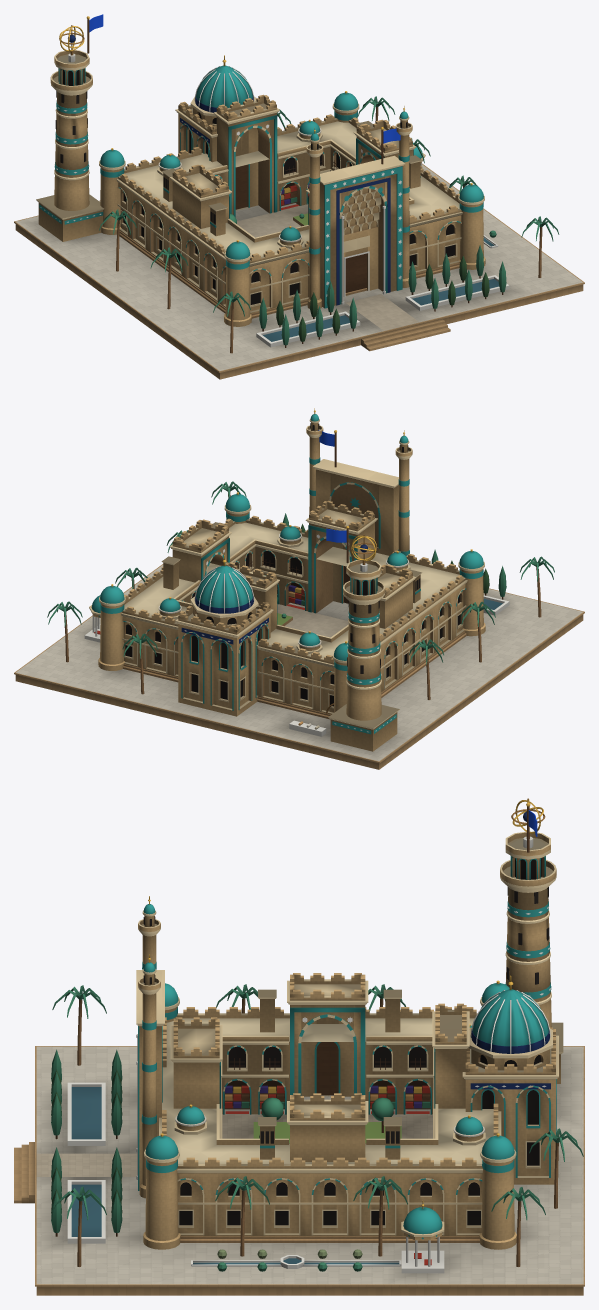
File: lm_beytulhikme.glb
The picture shows the model from 3 angles, top to bottom: view 1: azimuth 30°, elevation 25°; view 2: azimuth 150°, elevation 25°; view 3: azimuth 270°, elevation 25°; orthographic projection. The views are drawn at different scales.
Parts seen in each view (by area): view 1: lm_beytulhikme; view 2: lm_beytulhikme; view 3: lm_beytulhikme.
Part boxes in pixels (left/top/right/bottom): lm_beytulhikme: left=14, top=14, right=584, bottom=379; lm_beytulhikme: left=14, top=408, right=584, bottom=769; lm_beytulhikme: left=14, top=798, right=584, bottom=1295.
Size of the model in its own units: 2.25 by 1.27 by 2.28.
Materials: 1 (1 with a texture image).
